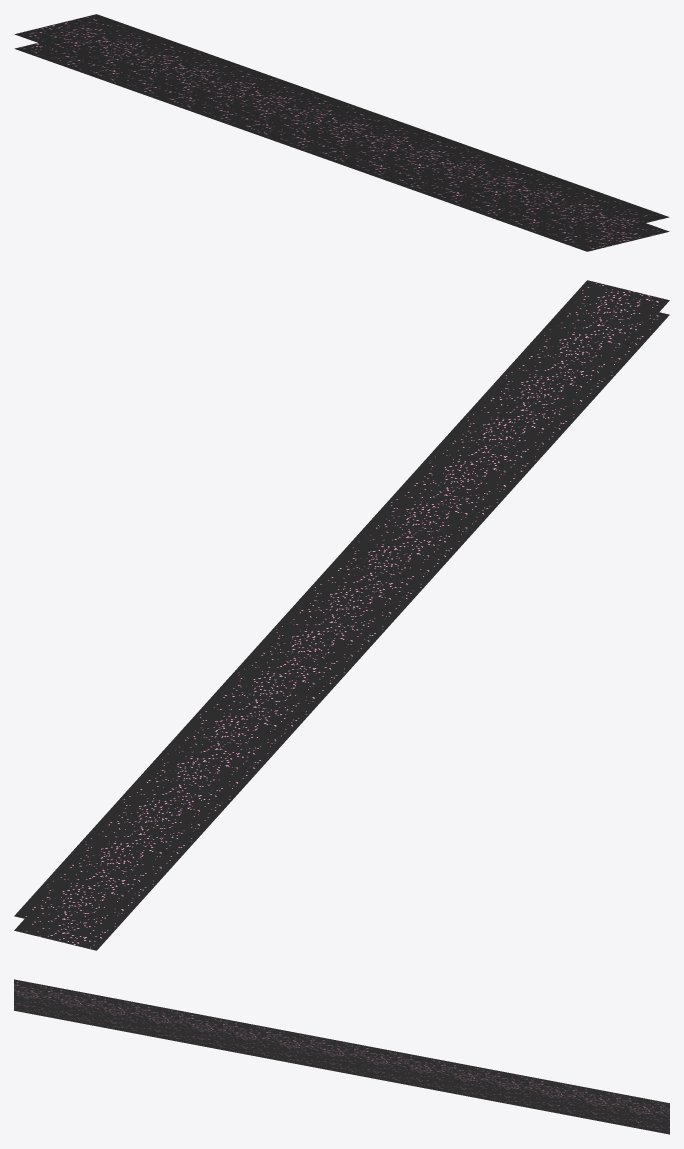
Rendered from CourseSpring_Box_Floor_5.fbx.
The picture shows the model from 3 angles, top to bottom: view 1: azimuth 30°, elevation 25°; view 2: azimuth 150°, elevation 25°; view 3: azimuth 270°, elevation 25°; orthographic projection. The views are drawn at different scales.
Visible parts, largest first — view 1: polySurface40; view 2: polySurface40; view 3: polySurface40.
Boxes of the visible parts, x1,y1,x2,y2 form: polySurface40: (14,14,669,251); polySurface40: (14,280,669,950); polySurface40: (14,979,669,1134).
Size of the model in its own units: 6 by 16 by 72.
1 material, 1 textured.
